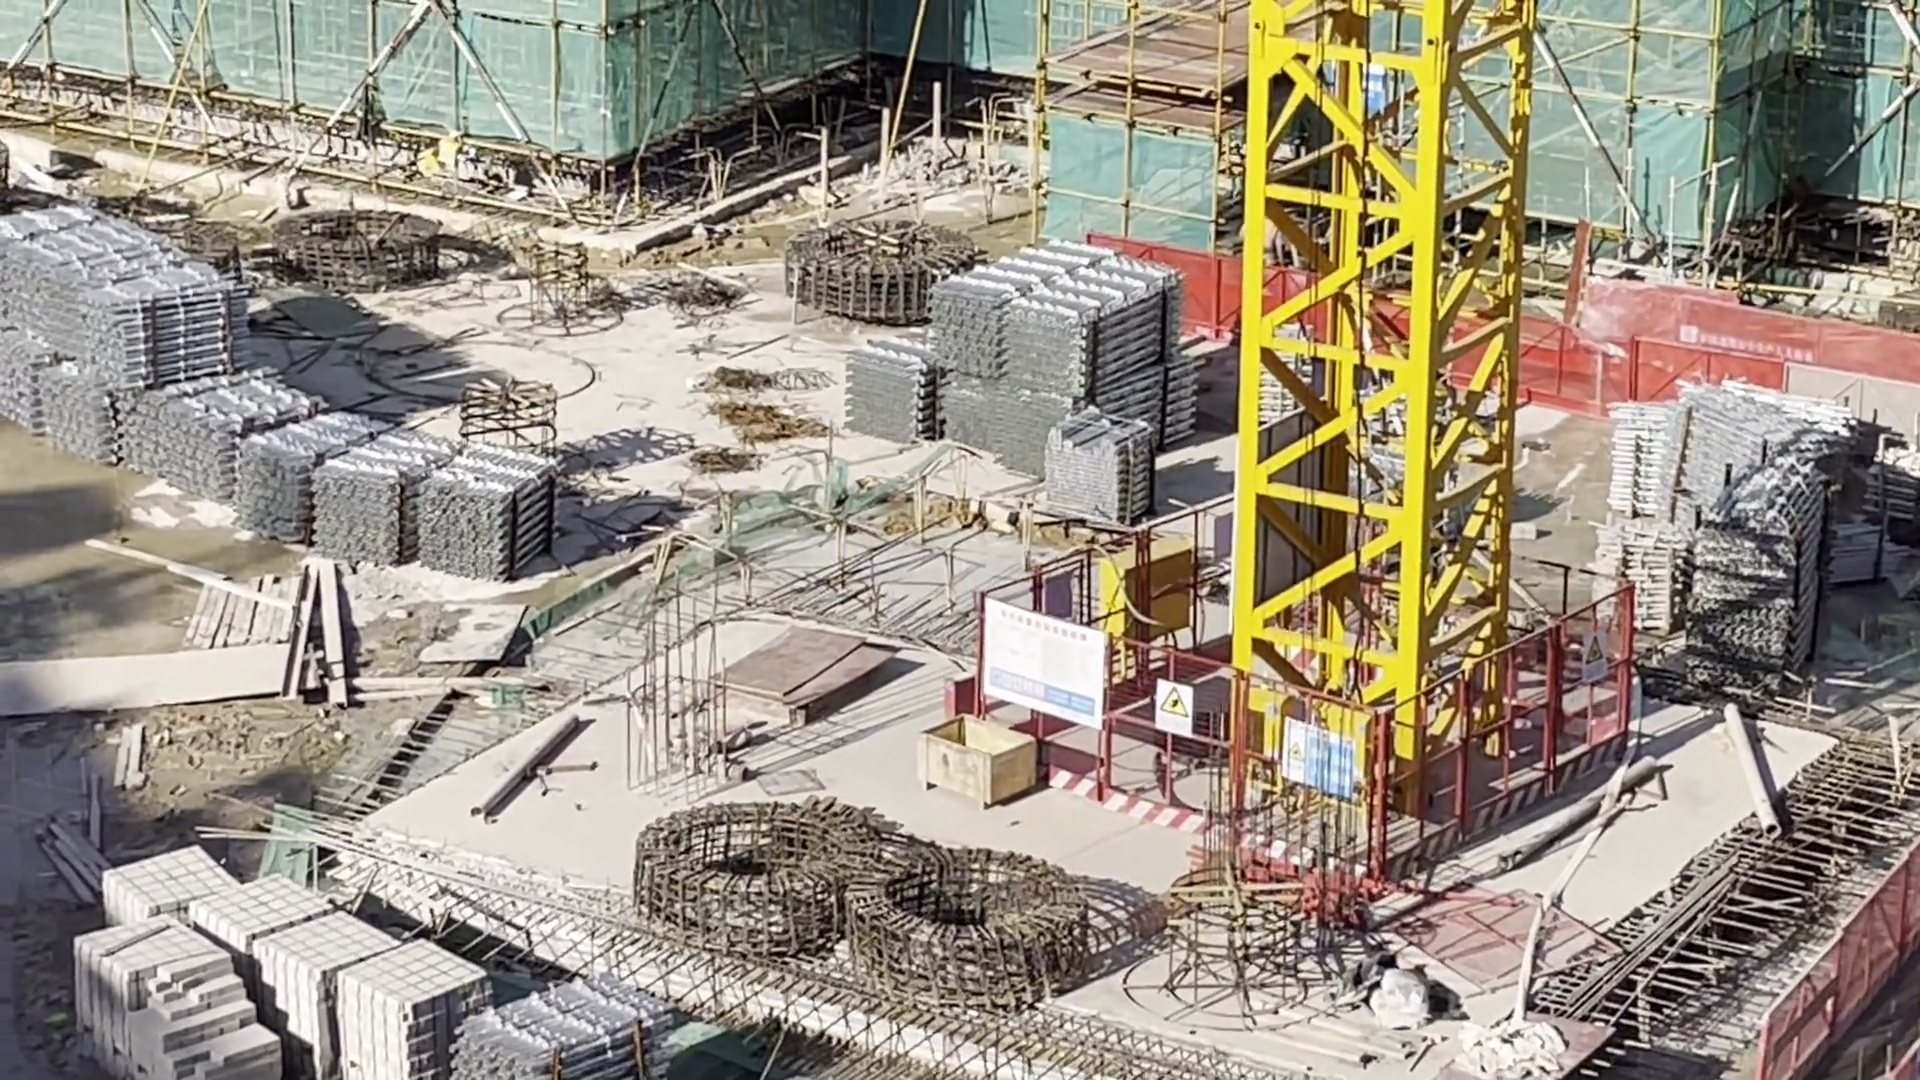board: (705, 629, 876, 724)
brick: (75, 869, 484, 1080)
ebox: (1101, 547, 1193, 647)
fence: (1524, 290, 1920, 429), (1779, 855, 1907, 1080)
scaffold: (4, 214, 286, 493), (935, 243, 1193, 472), (239, 422, 550, 584), (1617, 392, 1844, 508), (1701, 462, 1821, 665), (462, 973, 667, 1080), (1042, 418, 1154, 527), (1590, 508, 1683, 640), (848, 339, 936, 444)
slogan: (1283, 724, 1352, 803), (1156, 680, 1193, 735), (1582, 634, 1611, 680)
